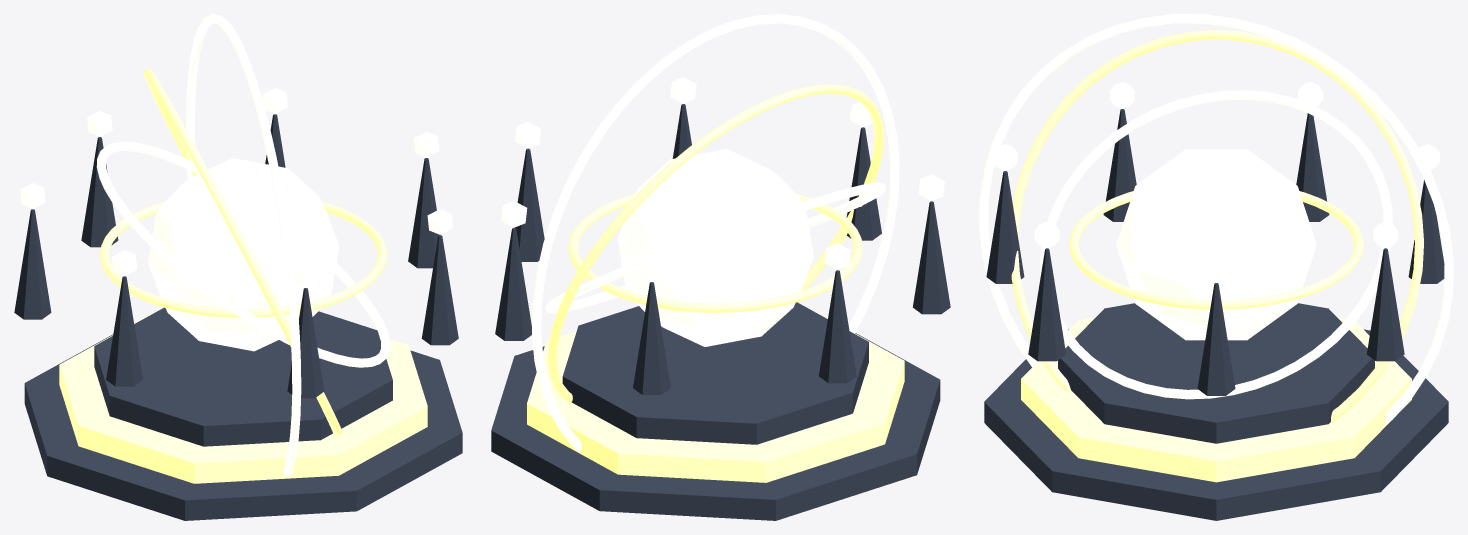
The model's file is gpu-blender-v10.glb.
The picture shows the model from 3 angles, left to right: view 1: azimuth 30°, elevation 25°; view 2: azimuth 150°, elevation 25°; view 3: azimuth 270°, elevation 25°; orthographic projection. The views are drawn at different scales.
Visible parts, largest first — view 1: Cylinder.002, SovereignCore_zela-glasses-guide, Cylinder, Cylinder.001, Torus.003, Torus.001, Torus, Torus.002, Cone.003, Cone.006, Cone.004, Cone (+8 smaller); view 2: Cylinder.002, SovereignCore_zela-glasses-guide, Cylinder, Cylinder.001, Torus.003, Torus.002, Torus.001, Torus, Cone.003, Cone.004, Cone.002, Cone.001 (+9 smaller); view 3: SovereignCore_zela-glasses-guide, Cylinder.002, Cylinder, Cylinder.001, Torus.003, Torus.002, Torus.001, Torus, Cone.001, Cone.006, Cone, Cone.005 (+5 smaller).
Part boxes in pixels (box(x1,y1,x2,y2)): Cylinder.002: box(94, 307, 392, 446); SovereignCore_zela-glasses-guide: box(148, 158, 339, 351); Cylinder: box(24, 334, 462, 520); Cylinder.001: box(59, 315, 427, 483); Torus.003: box(186, 14, 301, 476); Torus.001: box(96, 141, 390, 367); Torus: box(100, 201, 387, 317); Torus.002: box(143, 68, 342, 435); Cone.003: box(14, 209, 51, 319); Cone.006: box(421, 235, 458, 345); Cone.004: box(106, 276, 142, 386); Cone: box(408, 158, 440, 268); Cylinder.002: box(562, 302, 868, 444); SovereignCore_zela-glasses-guide: box(617, 149, 813, 346); Cylinder: box(491, 333, 940, 520); Cylinder.001: box(527, 310, 904, 482); Torus.003: box(532, 14, 899, 452); Torus.002: box(547, 84, 883, 403); Torus.001: box(545, 182, 885, 313); Torus: box(568, 193, 862, 312); Cone.003: box(819, 270, 856, 383); Cone.004: box(912, 201, 950, 314); Cone.002: box(633, 282, 670, 394); Cone.001: box(495, 228, 531, 340); SovereignCore_zela-glasses-guide: box(1116, 149, 1316, 340); Cylinder.002: box(1058, 303, 1374, 443); Cylinder: box(984, 329, 1448, 520); Cylinder.001: box(1021, 317, 1411, 482); Torus.003: box(979, 14, 1453, 424); Torus.002: box(1011, 30, 1423, 422); Torus.001: box(1040, 90, 1392, 399); Torus: box(1069, 191, 1363, 309); Cone.001: box(1366, 248, 1404, 361); Cone.006: box(1028, 248, 1066, 361); Cone: box(1197, 283, 1235, 395); Cone.005: box(986, 171, 1024, 283).
Size of the model in its own units: 4.41 by 4.7 by 4.49.
